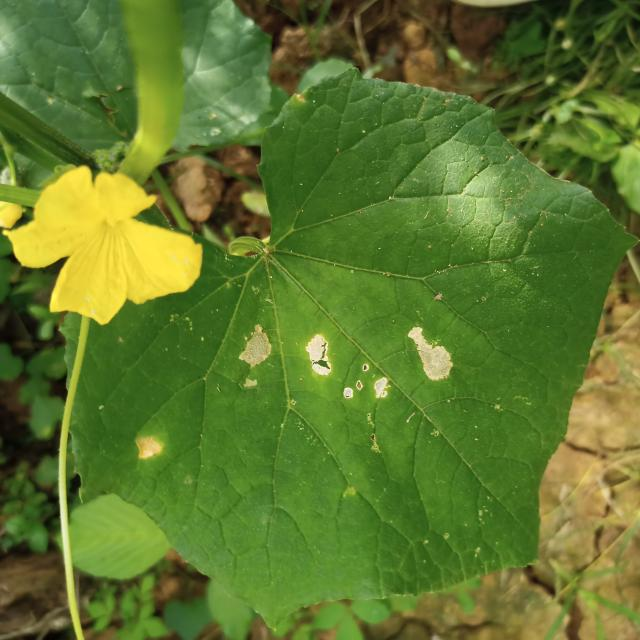disease_cucumber: (239, 321, 453, 403), (130, 431, 164, 465)
